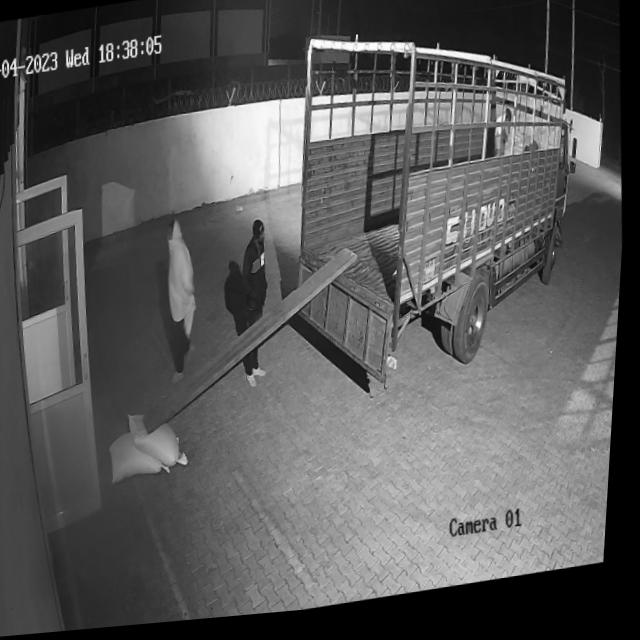sack: (128, 406, 197, 477), (113, 429, 177, 486)
